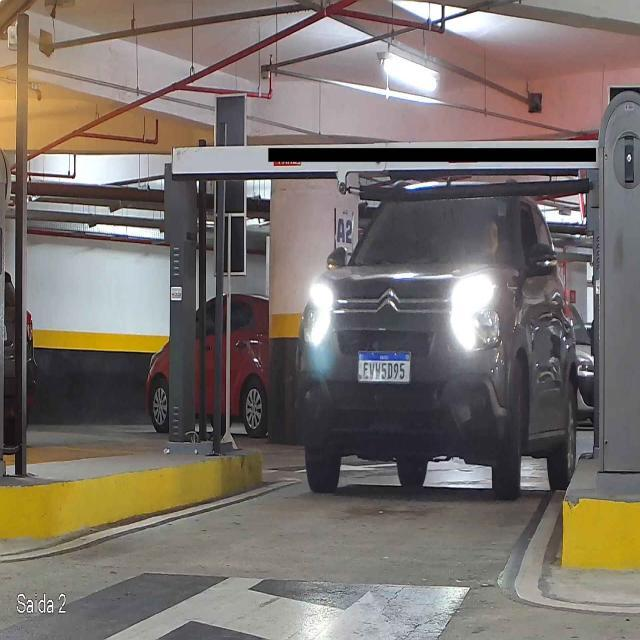mercosul_plate: (356, 349, 414, 386)
